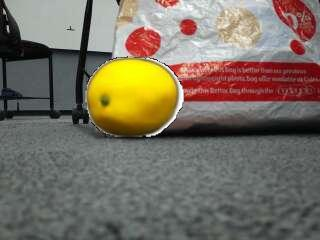lemon: (87, 58, 177, 134)
